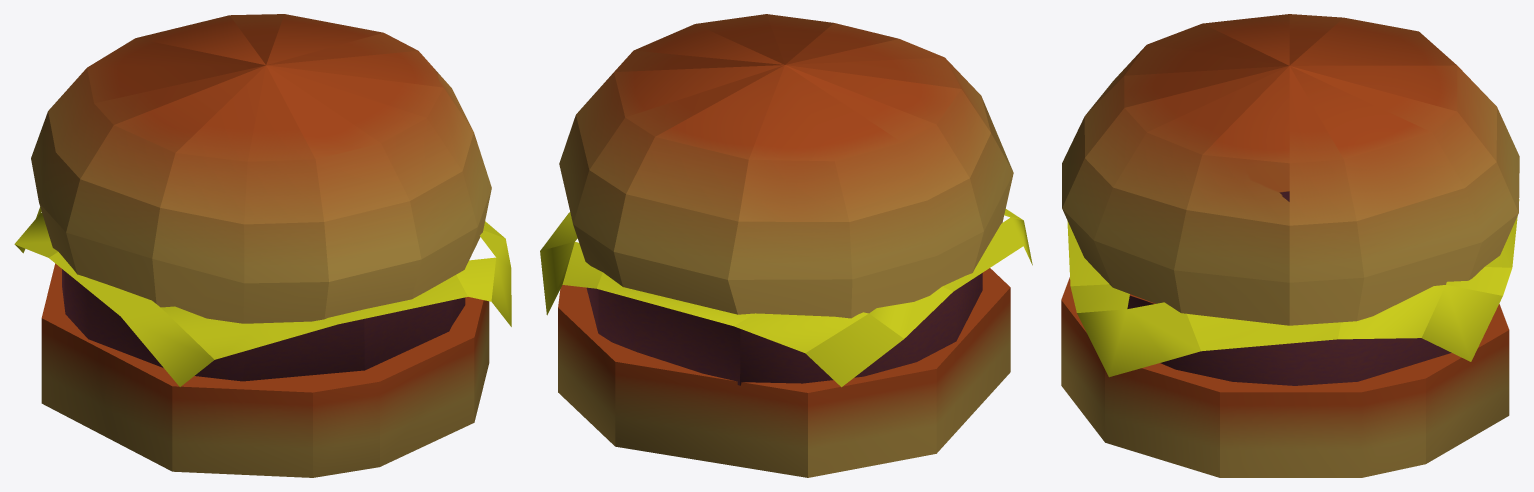
Rendered from burgerBake.fbx.
The picture shows the model from 3 angles, left to right: view 1: azimuth 30°, elevation 25°; view 2: azimuth 150°, elevation 25°; view 3: azimuth 270°, elevation 25°; orthographic projection.
Parts seen in each view (by area): view 1: bun_top, bun_bottom1, cheese, patty; view 2: bun_top, bun_bottom1, patty, cheese; view 3: bun_top, bun_bottom1, cheese, patty.
Part boxes in pixels (x1=…): bun_top: x1=31, y1=14, x2=491, y2=323; bun_bottom1: x1=41, y1=263, x2=489, y2=477; cheese: x1=14, y1=207, x2=511, y2=386; patty: x1=62, y1=269, x2=465, y2=381; bun_top: x1=559, y1=14, x2=1013, y2=318; bun_bottom1: x1=558, y1=268, x2=1010, y2=477; patty: x1=586, y1=273, x2=982, y2=385; cheese: x1=540, y1=209, x2=1032, y2=387; bun_top: x1=1062, y1=14, x2=1519, y2=325; bun_bottom1: x1=1061, y1=277, x2=1509, y2=477; cheese: x1=1067, y1=199, x2=1519, y2=377; patty: x1=1127, y1=191, x2=1451, y2=385.
Size of the model in its own units: 25.29 by 19.24 by 25.
Materials: 3 (3 with a texture image).
